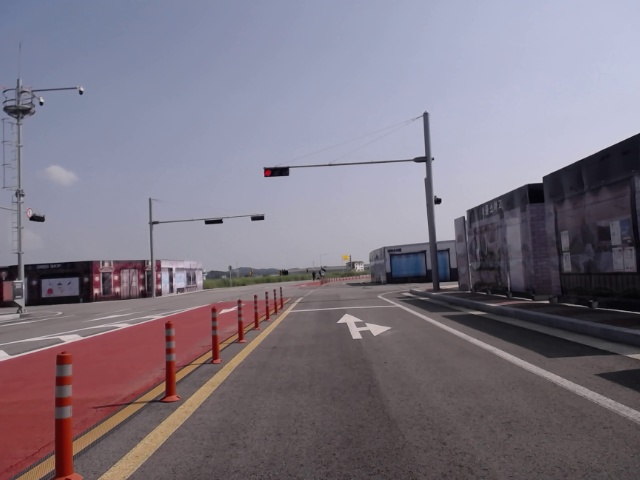red_3: (264, 167, 289, 177)
